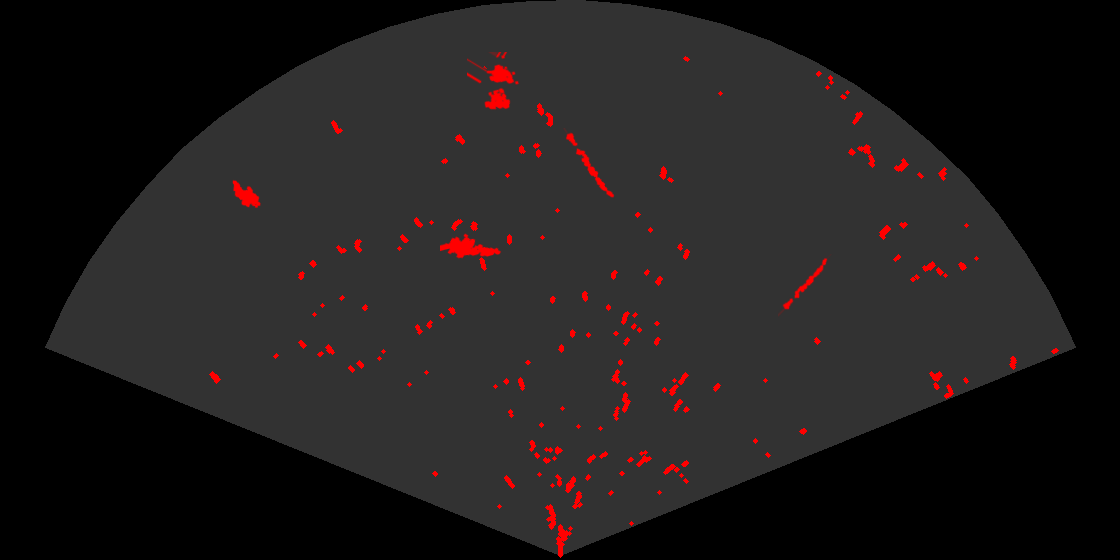AUV: (231, 178, 262, 210)
cage: (467, 52, 521, 111)
chain: (562, 128, 616, 199), (778, 254, 833, 318)
frogman: (440, 232, 502, 260)
